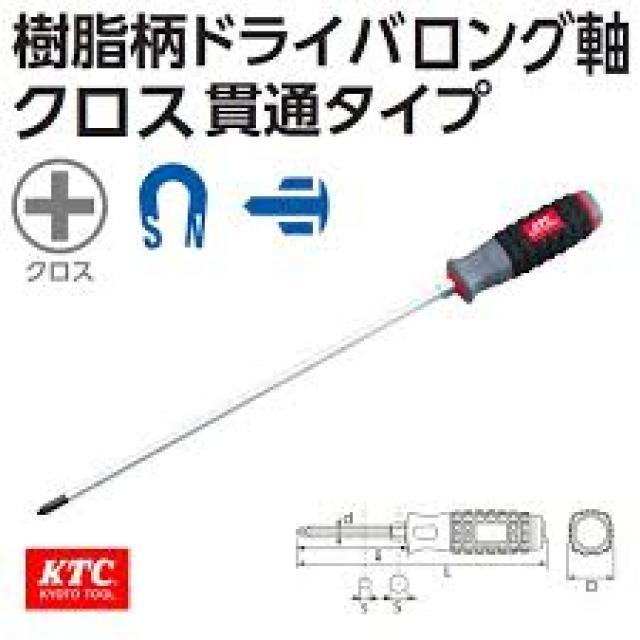screwdriver: (30, 187, 608, 524)
